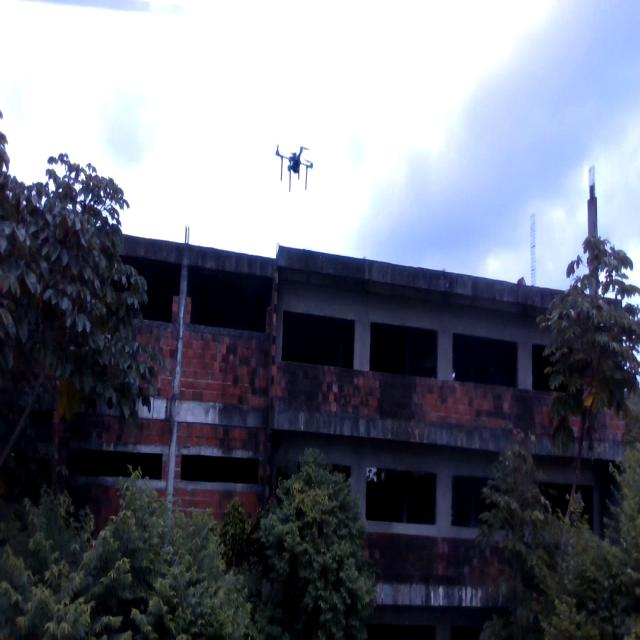-uav-: (264, 129, 330, 216)
